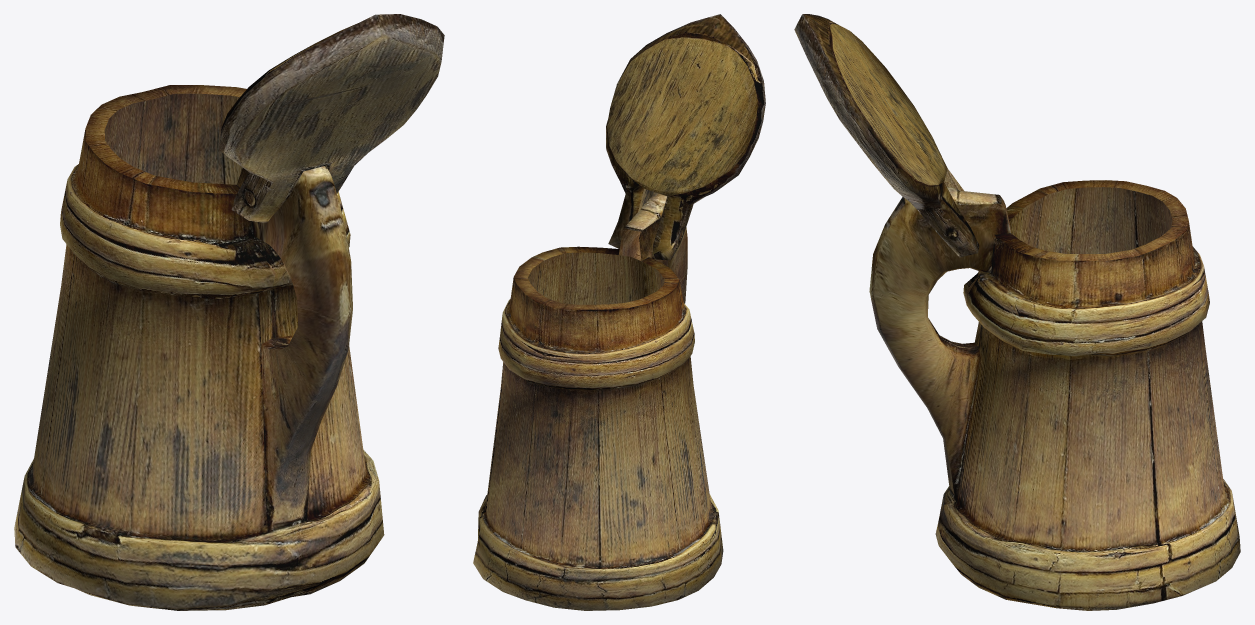
3 views of the same model, side by side, from view 1: azimuth 30°, elevation 25°; view 2: azimuth 150°, elevation 25°; view 3: azimuth 270°, elevation 25° (orthographic). The views are drawn at different scales.
Visible parts, largest first — view 1: MaryRoseTankard_100kMesh_recontour.003, MaryRoseTankard_100kMesh_recontour.001; view 2: MaryRoseTankard_100kMesh_recontour.003, MaryRoseTankard_100kMesh_recontour.001; view 3: MaryRoseTankard_100kMesh_recontour.003, MaryRoseTankard_100kMesh_recontour.001.
Boxes of the visible parts, left/top/right/bottom form: MaryRoseTankard_100kMesh_recontour.003: left=14, top=85, right=384, bottom=610; MaryRoseTankard_100kMesh_recontour.001: left=219, top=14, right=444, bottom=222; MaryRoseTankard_100kMesh_recontour.003: left=473, top=193, right=723, bottom=610; MaryRoseTankard_100kMesh_recontour.001: left=606, top=14, right=765, bottom=260; MaryRoseTankard_100kMesh_recontour.003: left=869, top=180, right=1240, bottom=610; MaryRoseTankard_100kMesh_recontour.001: left=794, top=14, right=979, bottom=257.
Size of the model in its own units: 0.1216 by 0.2455 by 0.1846.
1 material, 1 textured.
